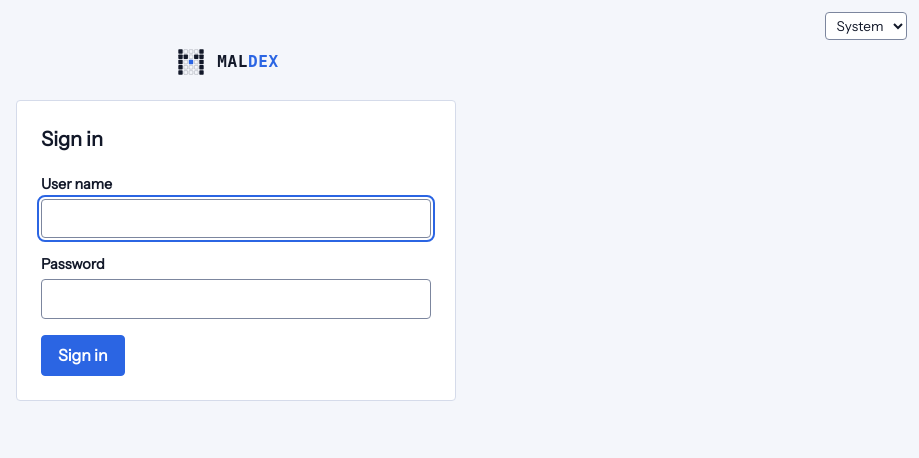
Scenario: LoginPage › login 401 {"error":"locked"} shows Too many failed attempts. Try again in 15 minutes.
Type "pat" into the field labelled "User name" at (236, 219), box [41,199,431,238]
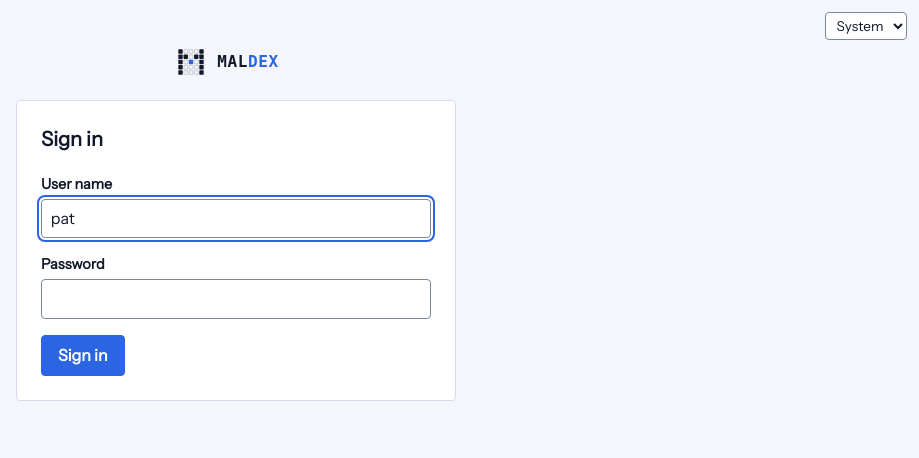
Type "hunter2hunter2" into the password field labelled "Password" at (236, 299), box [41,279,431,319]
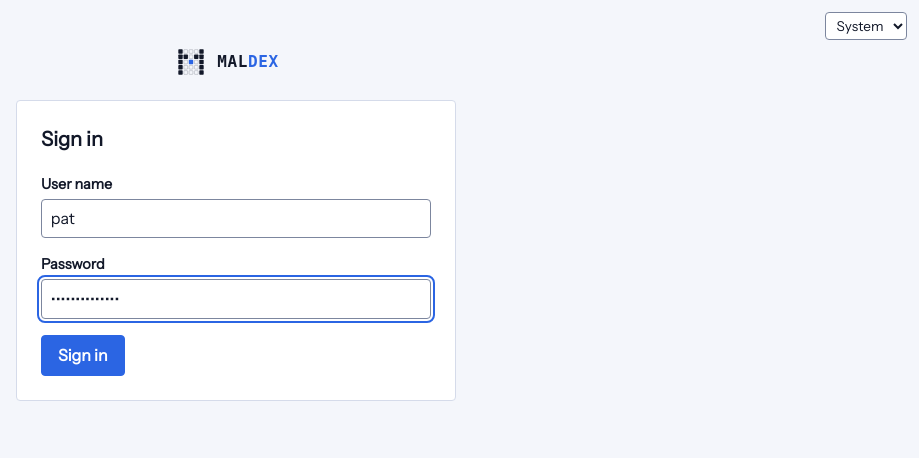
Click the button "Sign in" at (83, 356), box [41,335,124,376]
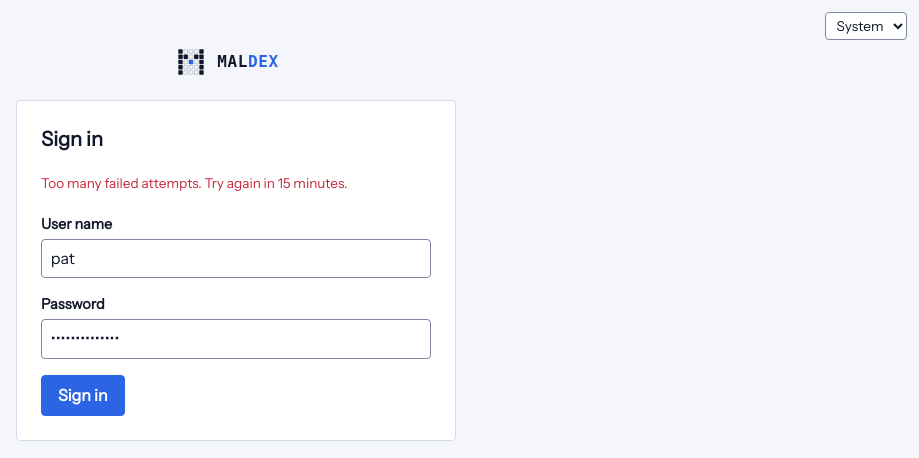
Now the message reads "Too many failed attempts. Try again in 15 minutes.", box [41,175,348,191]
